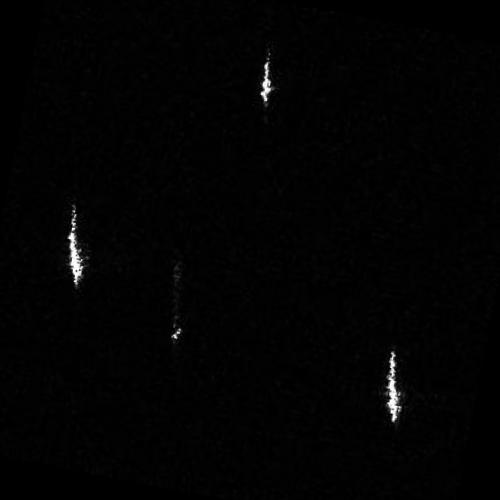ship: (65, 202, 85, 288), (384, 347, 404, 424), (171, 261, 186, 347), (256, 59, 273, 105)
